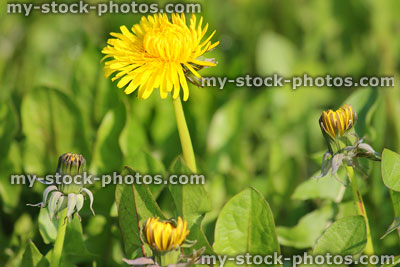dandelion: (106, 17, 212, 87), (147, 212, 195, 247)
